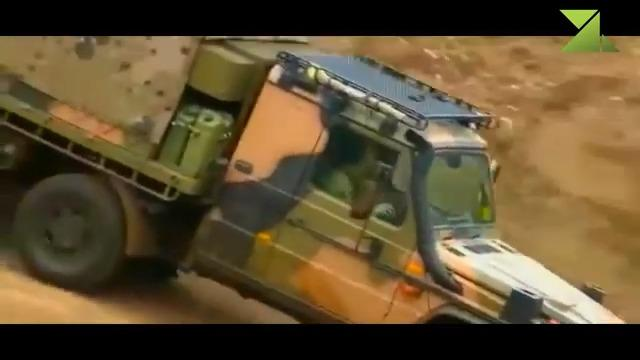MIL_HMMWV: (0, 36, 625, 325)
